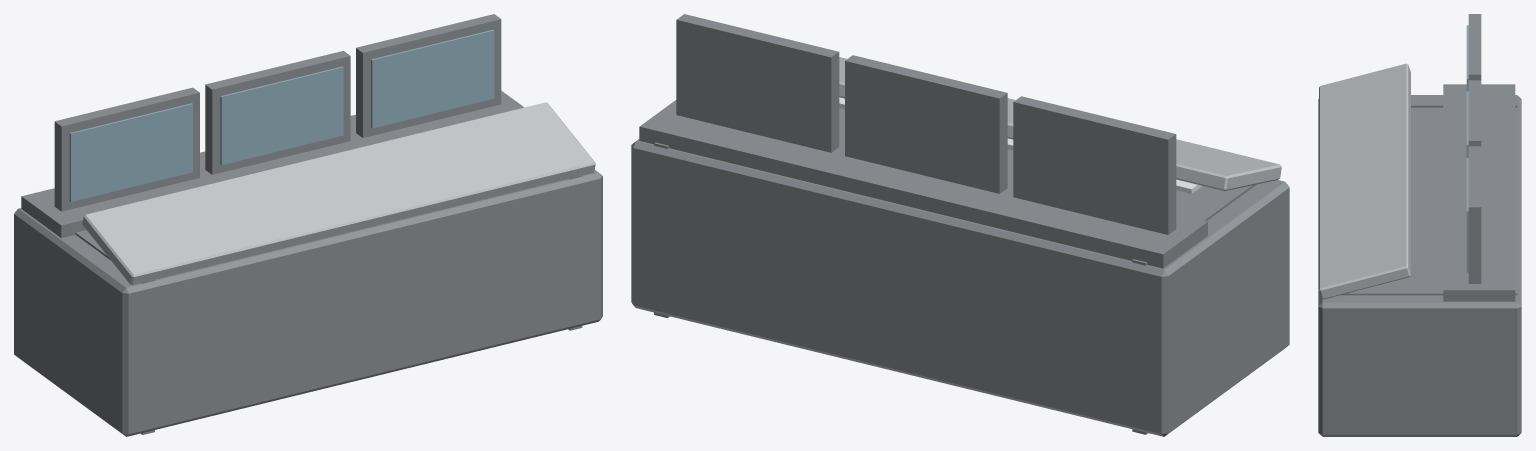
The model's file is P_main_console.fbx.
3 views of the same model, side by side, from view 1: azimuth 30°, elevation 25°; view 2: azimuth 150°, elevation 25°; view 3: azimuth 270°, elevation 25° (orthographic). The views are drawn at different scales.
Parts seen in each view (by area): view 1: P_main_console; view 2: P_main_console; view 3: P_main_console.
Boxes of the visible parts, box(x1,y1,x2,y2) form: P_main_console: box(14, 14, 602, 436); P_main_console: box(631, 14, 1289, 436); P_main_console: box(1318, 14, 1521, 436).
Size of the model in its own units: 2.36 by 1.17 by 0.96.
